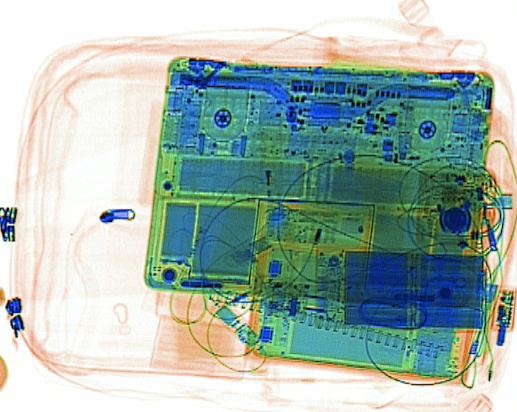powerbank: (313, 246, 486, 331)
